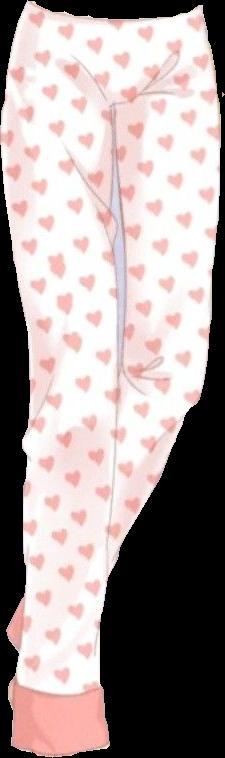Hemline: (9, 740, 110, 757)
Pantleg: (6, 5, 220, 653), (0, 1, 146, 756)
Waistline: (24, 0, 205, 28)
